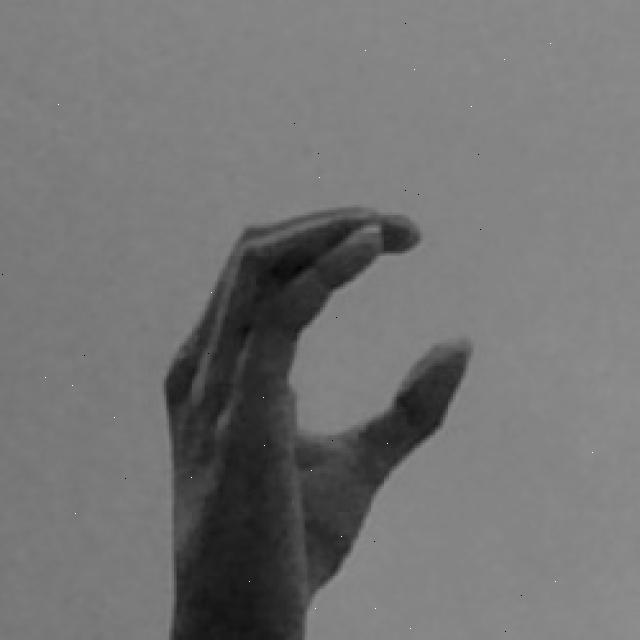C: (156, 199, 476, 640)
